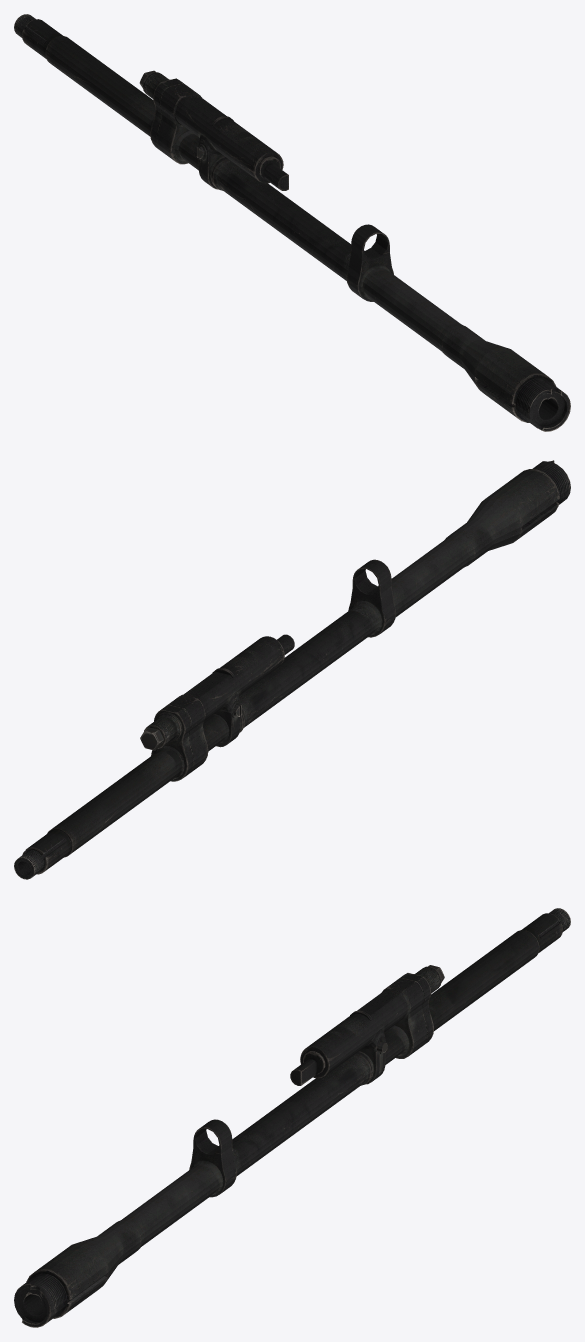
The picture shows the model from 3 angles, top to bottom: view 1: azimuth 30°, elevation 25°; view 2: azimuth 150°, elevation 25°; view 3: azimuth 330°, elevation 25°; orthographic projection.
Visible parts, largest first — view 1: TW_5addbac75acfc400194dbc56_PZ_Import; view 2: TW_5addbac75acfc400194dbc56_PZ_Import; view 3: TW_5addbac75acfc400194dbc56_PZ_Import.
Boxes of the visible parts, x1,y1,x2,y2 form: TW_5addbac75acfc400194dbc56_PZ_Import: (14, 14, 570, 431); TW_5addbac75acfc400194dbc56_PZ_Import: (14, 460, 570, 879); TW_5addbac75acfc400194dbc56_PZ_Import: (14, 908, 570, 1327).
Bounding box in the file's own units: 0.0168 × 0.338 × 0.0272.
Materials: 1 (1 with a texture image).
